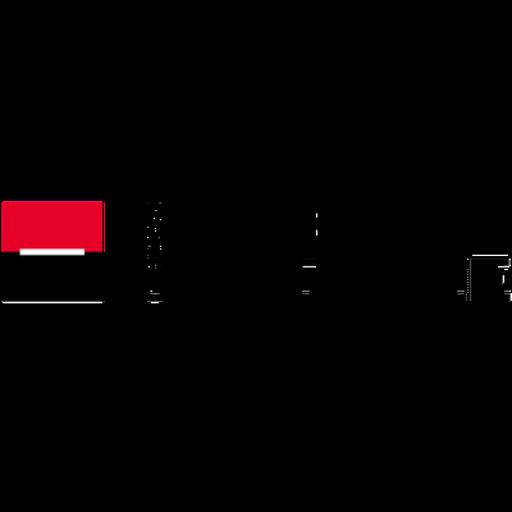Societe Generale: (0, 201, 512, 311)
